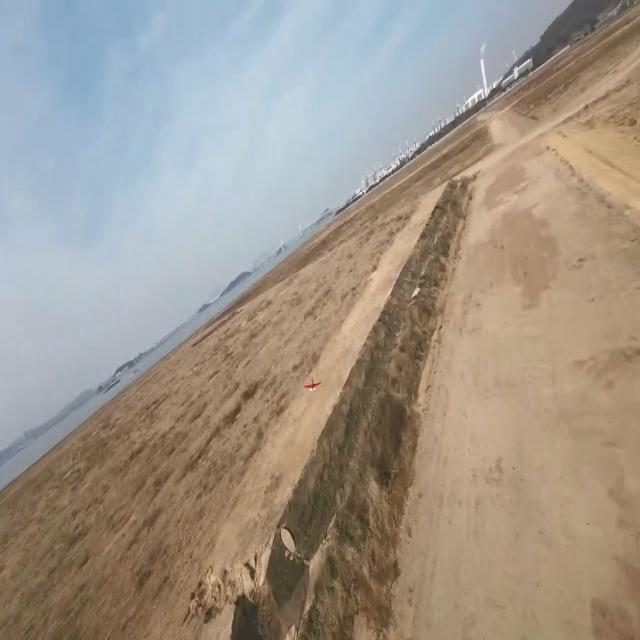iha: (295, 372, 332, 399)
